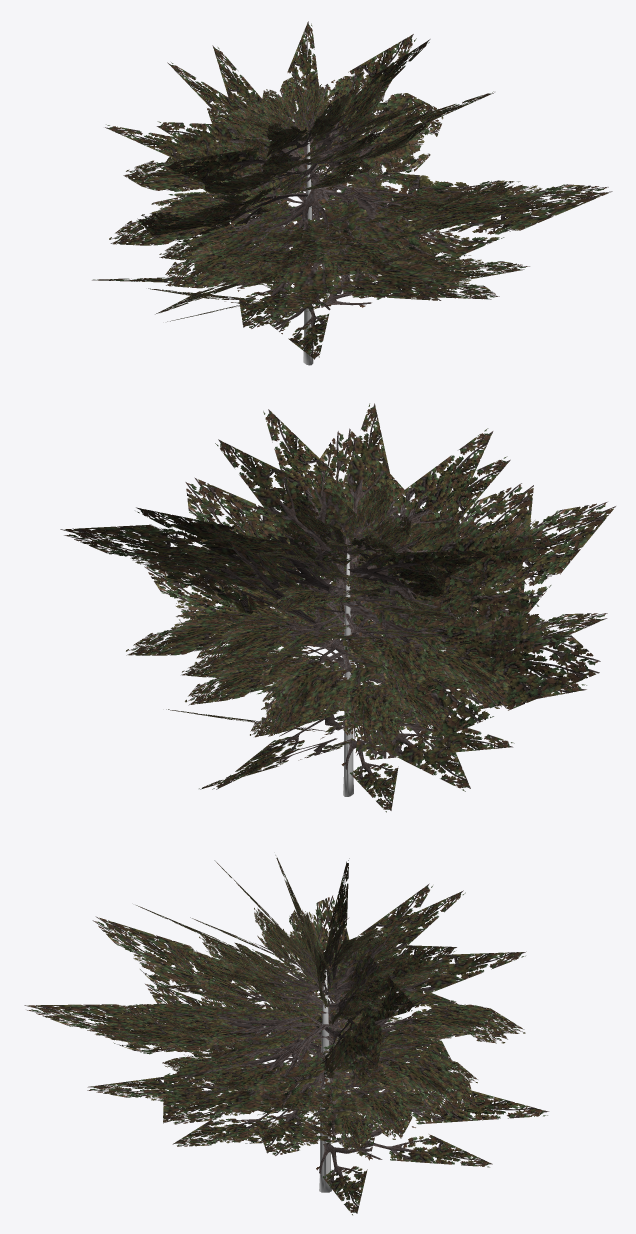
The model's file is MapleTree.fbx.
The picture shows the model from 3 angles, top to bottom: view 1: azimuth 30°, elevation 25°; view 2: azimuth 150°, elevation 25°; view 3: azimuth 270°, elevation 25°; orthographic projection. The views are drawn at different scales.
Parts seen in each view (by area): view 1: MapleTree2LOD3, MapleTree2LOD2, MapleTree2LOD1; view 2: MapleTree2LOD3, MapleTree2LOD1, MapleTree2LOD2; view 3: MapleTree2LOD3, MapleTree2LOD1, MapleTree2LOD2.
Part boxes in pixels (x1,y1,x2,y2): MapleTree2LOD3: [92, 21, 612, 359]; MapleTree2LOD2: [142, 76, 470, 365]; MapleTree2LOD1: [109, 75, 514, 365]; MapleTree2LOD3: [60, 403, 615, 812]; MapleTree2LOD1: [126, 468, 529, 796]; MapleTree2LOD2: [162, 480, 518, 796]; MapleTree2LOD3: [24, 855, 549, 1215]; MapleTree2LOD1: [121, 908, 525, 1192]; MapleTree2LOD2: [154, 919, 490, 1192].
Bounding box in the file's own units: 1078 × 632 × 1155.
